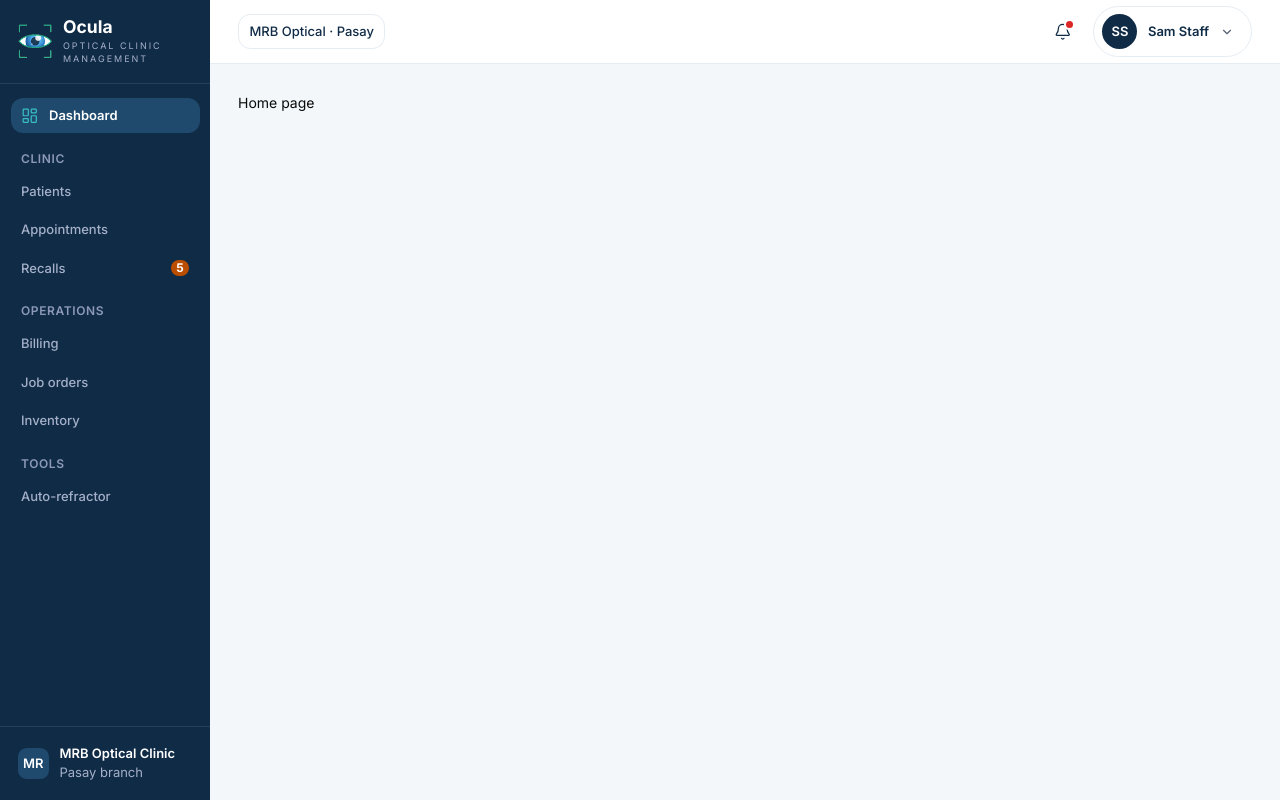
Test: AppShell account › the account menu starts with who is signed in: name and email
What coordinates should you click on to do the following:
click the button with aria-label "Account menu"
I would click on:
 (1172, 32)
Its box is x1=1093 y1=6 x2=1252 y2=57.
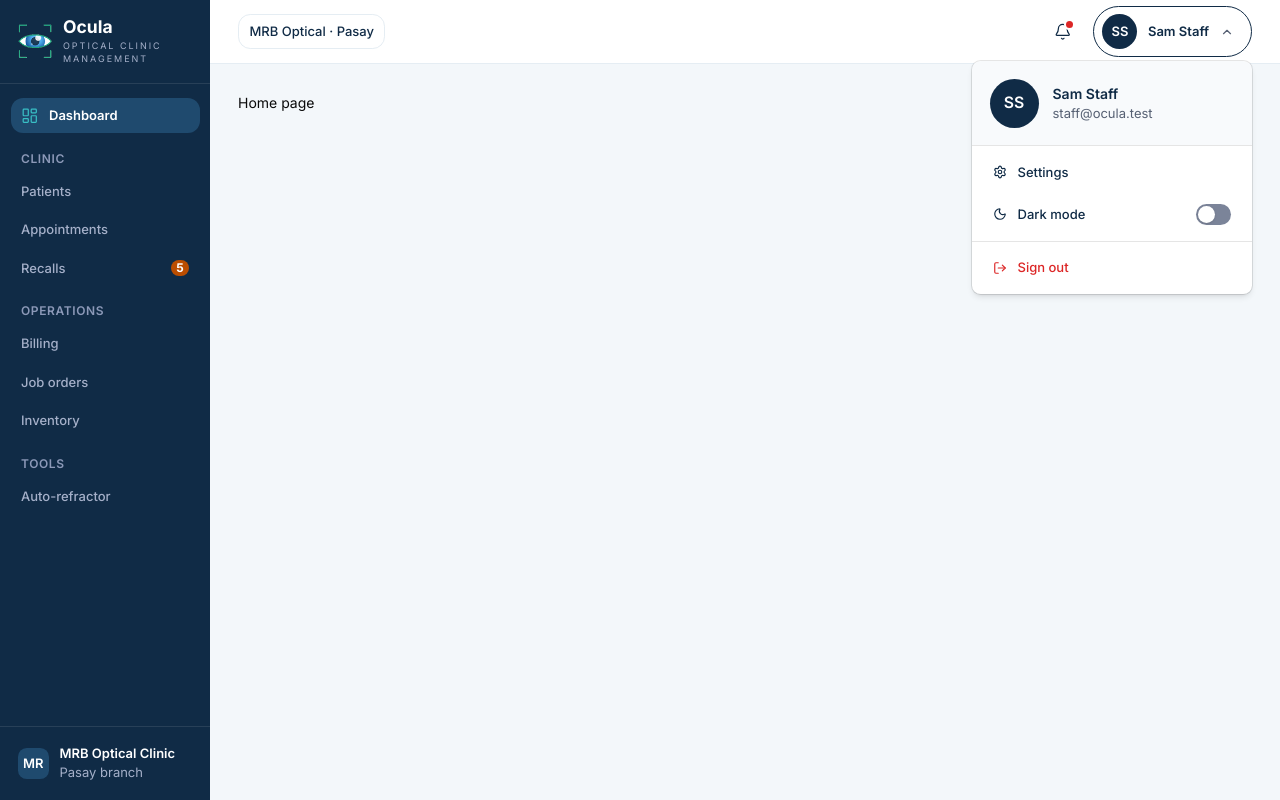
Check: the 2nd text "Sam Staff" is shown, box x1=1052 y1=85 x2=1118 y2=102
Check: the text "staff@ocula.test" is shown, box x1=1052 y1=104 x2=1153 y2=123
